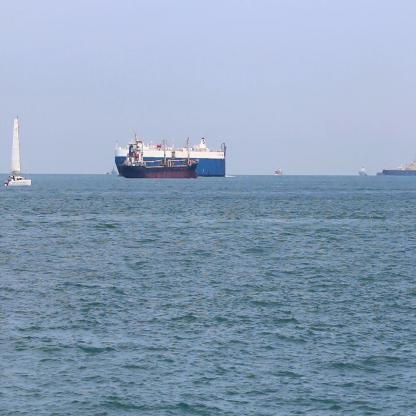Container Ship: (113, 134, 228, 180), (116, 128, 201, 182), (380, 160, 415, 180), (358, 163, 369, 179), (274, 164, 284, 178), (110, 164, 118, 178)
